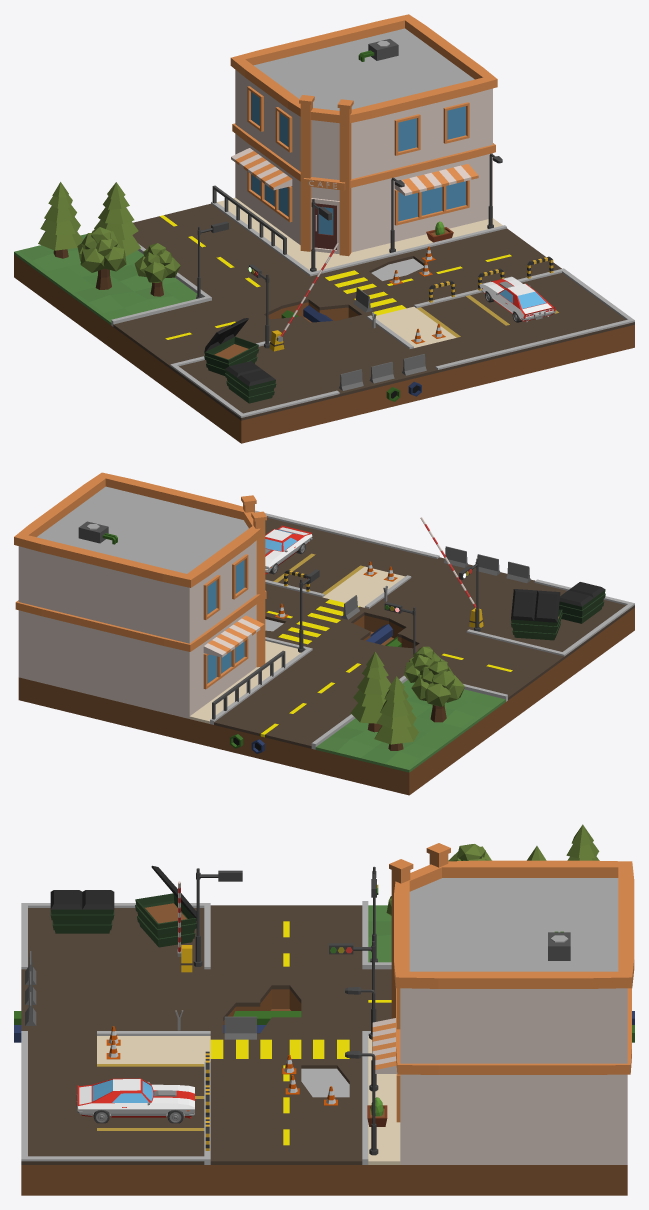
The model's file is city_pair_C3_tweaked.glb.
3 views of the same model, one above another, from view 1: azimuth 30°, elevation 25°; view 2: azimuth 150°, elevation 25°; view 3: azimuth 270°, elevation 25° (orthographic). The views are drawn at different scales.
Parts seen in each view (by area): view 1: Plane_0, Plane.005_22, Plane.007_23, Car_31, Plane.008_2, Plane.006_1, Plane.009_3, Plane.002_12; view 2: Plane_0, Plane.008_2, Plane.005_22, Plane.007_23, Plane.006_1, Plane.009_3, Car_31, Plane.002_12; view 3: Plane_0, Car_31, Plane.009_3, Plane.008_2, Plane.016_8, Cube.002_13, Plane.005_22, Plane.010_17, Plane.015_7, Plane.007_23.
Part boxes in pixels (x1=…): Plane_0: x1=14, y1=14, x2=634, y2=443; Plane.005_22: x1=38, y1=182, x2=82, y2=258; Plane.007_23: x1=77, y1=227, x2=126, y2=289; Car_31: x1=479, y1=276, x2=555, y2=321; Plane.008_2: x1=204, y1=318, x2=258, y2=375; Plane.006_1: x1=94, y1=182, x2=140, y2=256; Plane.009_3: x1=225, y1=361, x2=276, y2=403; Plane.002_12: x1=134, y1=243, x2=180, y2=296; Plane_0: x1=14, y1=472, x2=634, y2=795; Plane.008_2: x1=511, y1=589, x2=562, y2=640; Plane.005_22: x1=374, y1=676, x2=418, y2=750; Plane.007_23: x1=411, y1=661, x2=464, y2=722; Plane.006_1: x1=350, y1=651, x2=390, y2=732; Plane.009_3: x1=559, y1=582, x2=605, y2=623; Car_31: x1=265, y1=525, x2=312, y2=574; Plane.002_12: x1=404, y1=646, x2=447, y2=682; Plane_0: x1=14, y1=843, x2=634, y2=1195; Car_31: x1=76, y1=1078, x2=194, y2=1118; Plane.009_3: x1=50, y1=890, x2=114, y2=933; Plane.008_2: x1=135, y1=865, x2=196, y2=947; Plane.016_8: x1=193, y1=868, x2=242, y2=966; Cube.002_13: x1=224, y1=1016, x2=256, y2=1039; Plane.005_22: x1=566, y1=824, x2=599, y2=860; Plane.010_17: x1=345, y1=1051, x2=378, y2=1155; Plane.015_7: x1=329, y1=941, x2=376, y2=1039; Plane.007_23: x1=448, y1=844, x2=491, y2=861.
Bounding box in the file's own units: 23.64 × 10.04 × 23.95.
